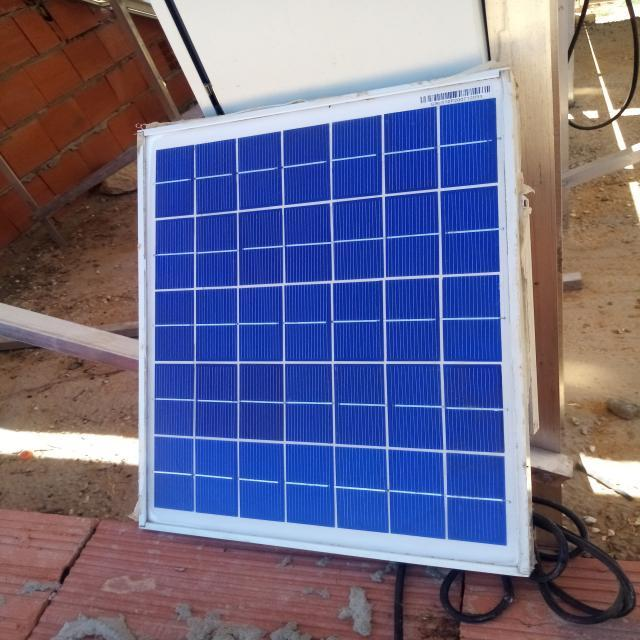no faulty: (142, 71, 523, 575)
